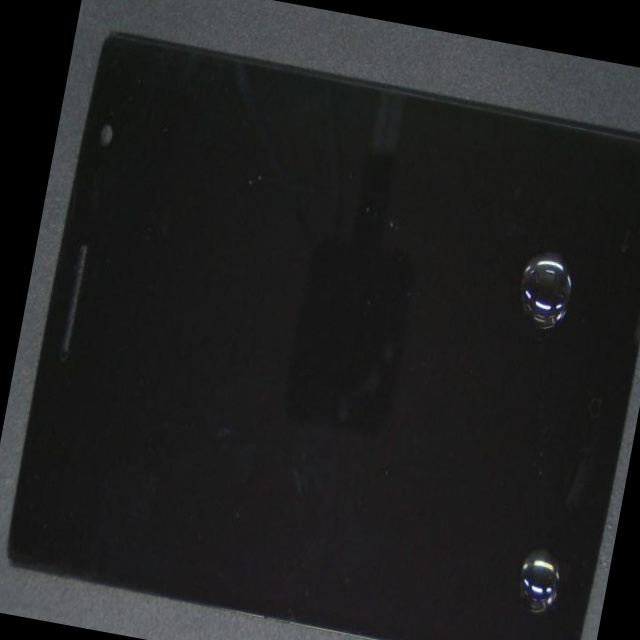oil: (257, 254, 640, 640), (297, 152, 640, 430)
